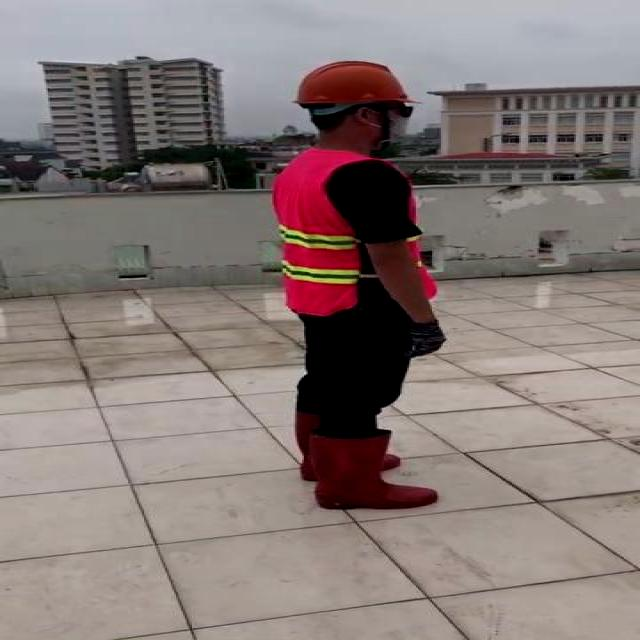boots: (300, 427, 441, 512)
face_mask: (360, 98, 415, 145)
hand_glove: (404, 319, 448, 358)
head_helmet: (291, 56, 418, 106)
person: (262, 54, 456, 516)
vest: (272, 150, 434, 315)
